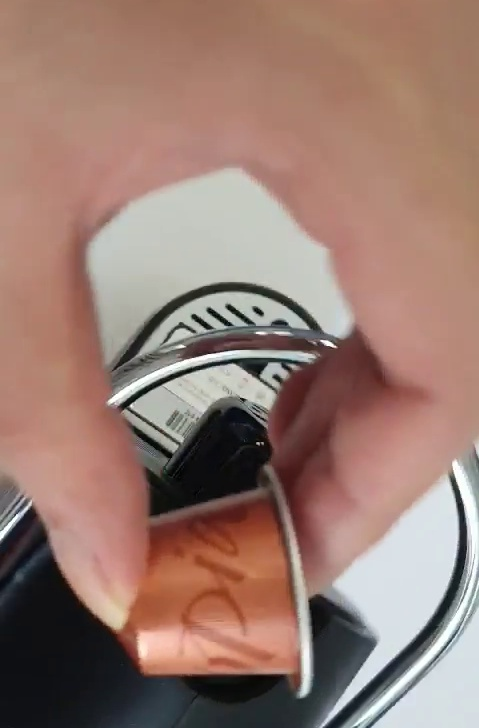capsule_6: (107, 463, 323, 700)
